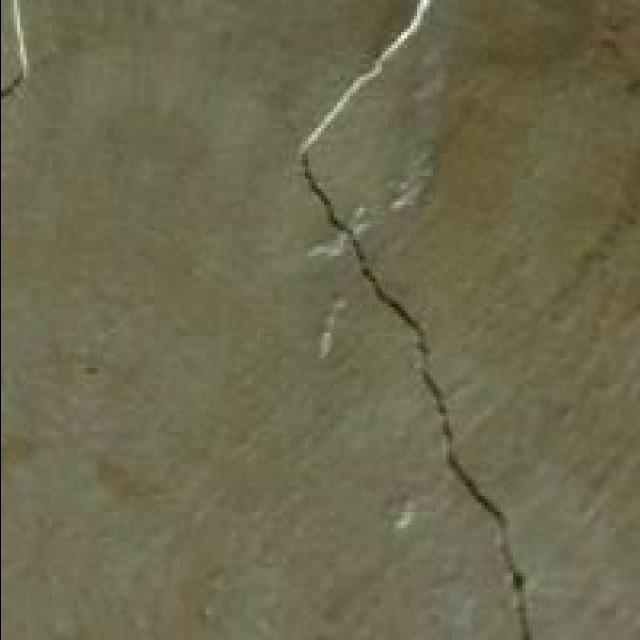SurfaceCrack: (254, 0, 576, 640)
